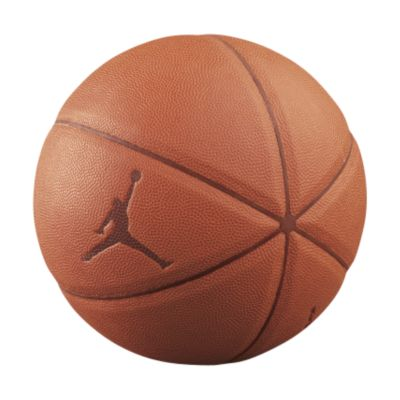basketball: (32, 33, 367, 366)
